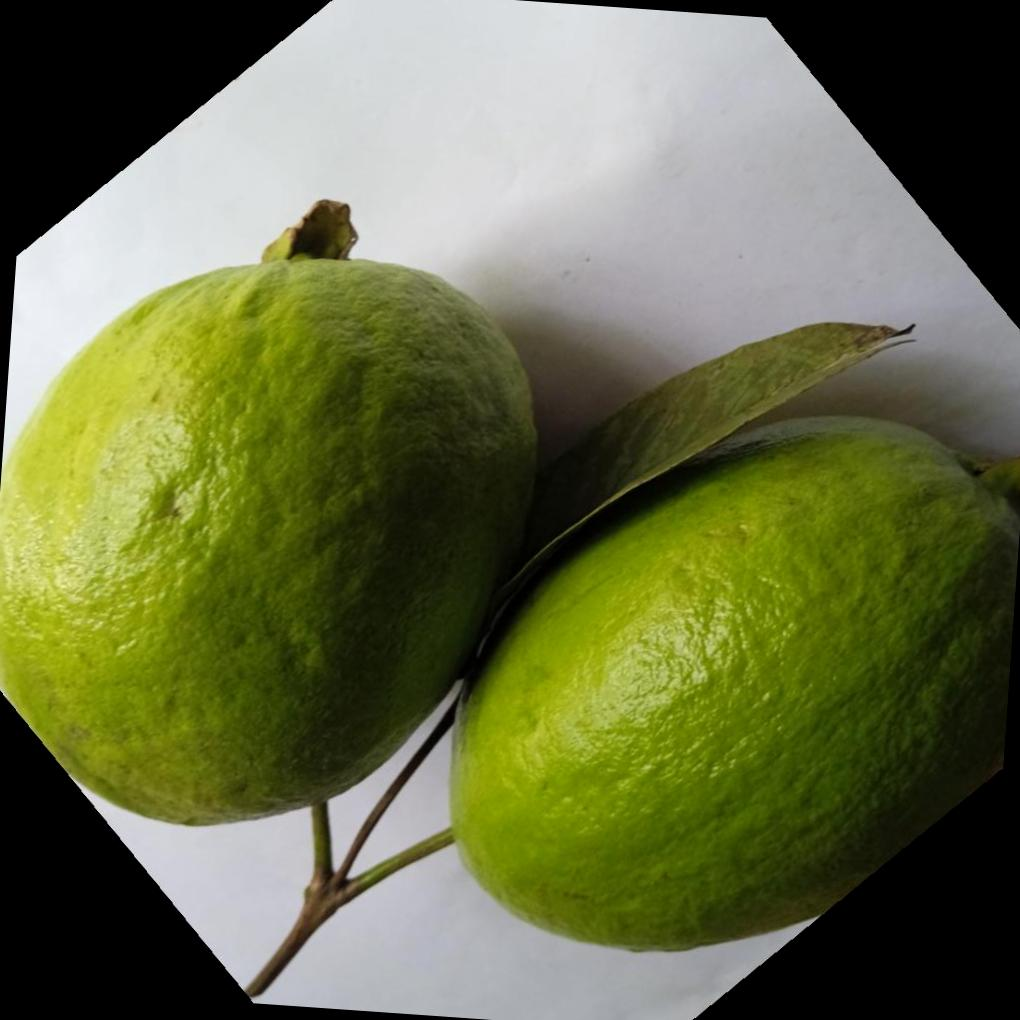FreshGuava: (0, 200, 1020, 955)
